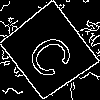C: (24, 26, 84, 83)
